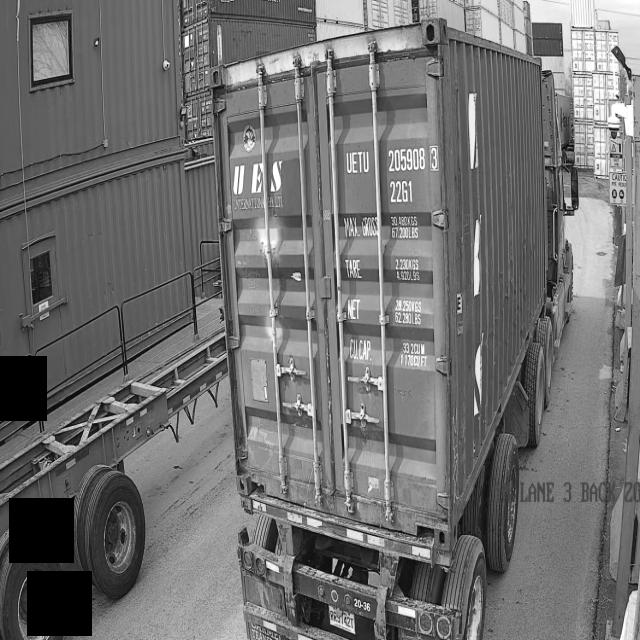container_company_logo: (231, 150, 300, 213)
container_number: (342, 135, 448, 205)
license_plate: (317, 601, 366, 638)
other_container_info: (342, 202, 442, 378)
truck_trailer: (0, 329, 227, 640)
truck_with_container: (211, 18, 578, 640)
